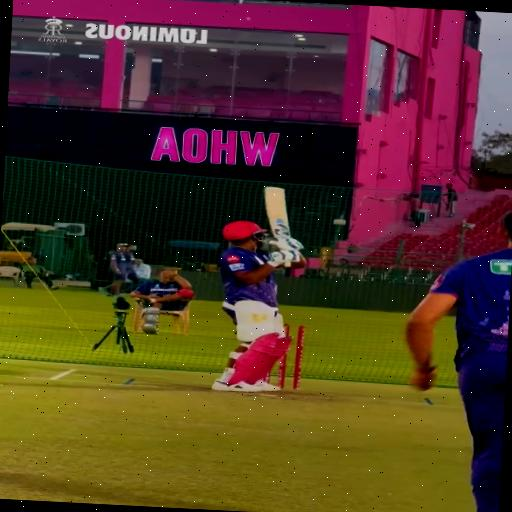Cricket bat: (264, 187, 290, 240)
